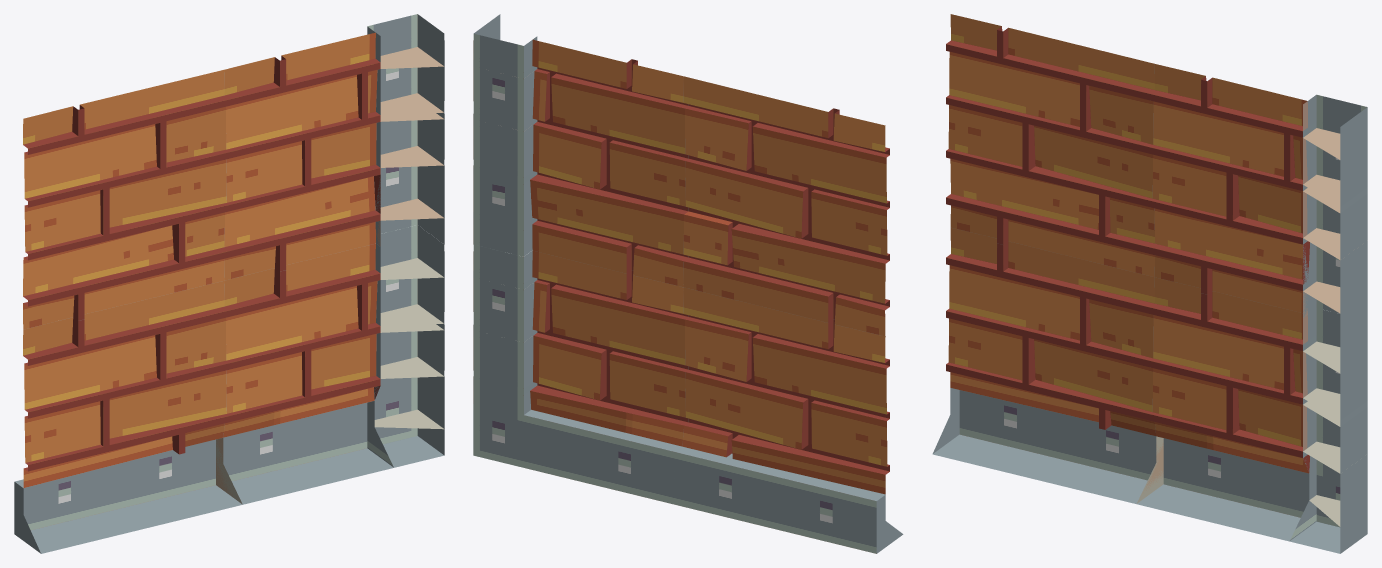
Rendered from CornerBLKayu.fbx.
The picture shows the model from 3 angles, left to right: view 1: azimuth 30°, elevation 25°; view 2: azimuth 150°, elevation 25°; view 3: azimuth 330°, elevation 25°; orthographic projection.
Parts seen in each view (by area): view 1: CornerBLKayu; view 2: CornerBLKayu; view 3: CornerBLKayu.
Boxes of the visible parts, x1,y1,x2,y2 form: CornerBLKayu: [14, 14, 444, 553]; CornerBLKayu: [473, 14, 903, 553]; CornerBLKayu: [932, 14, 1367, 553].
Bounding box in the file's own units: 10.92 × 94.81 × 94.81.
